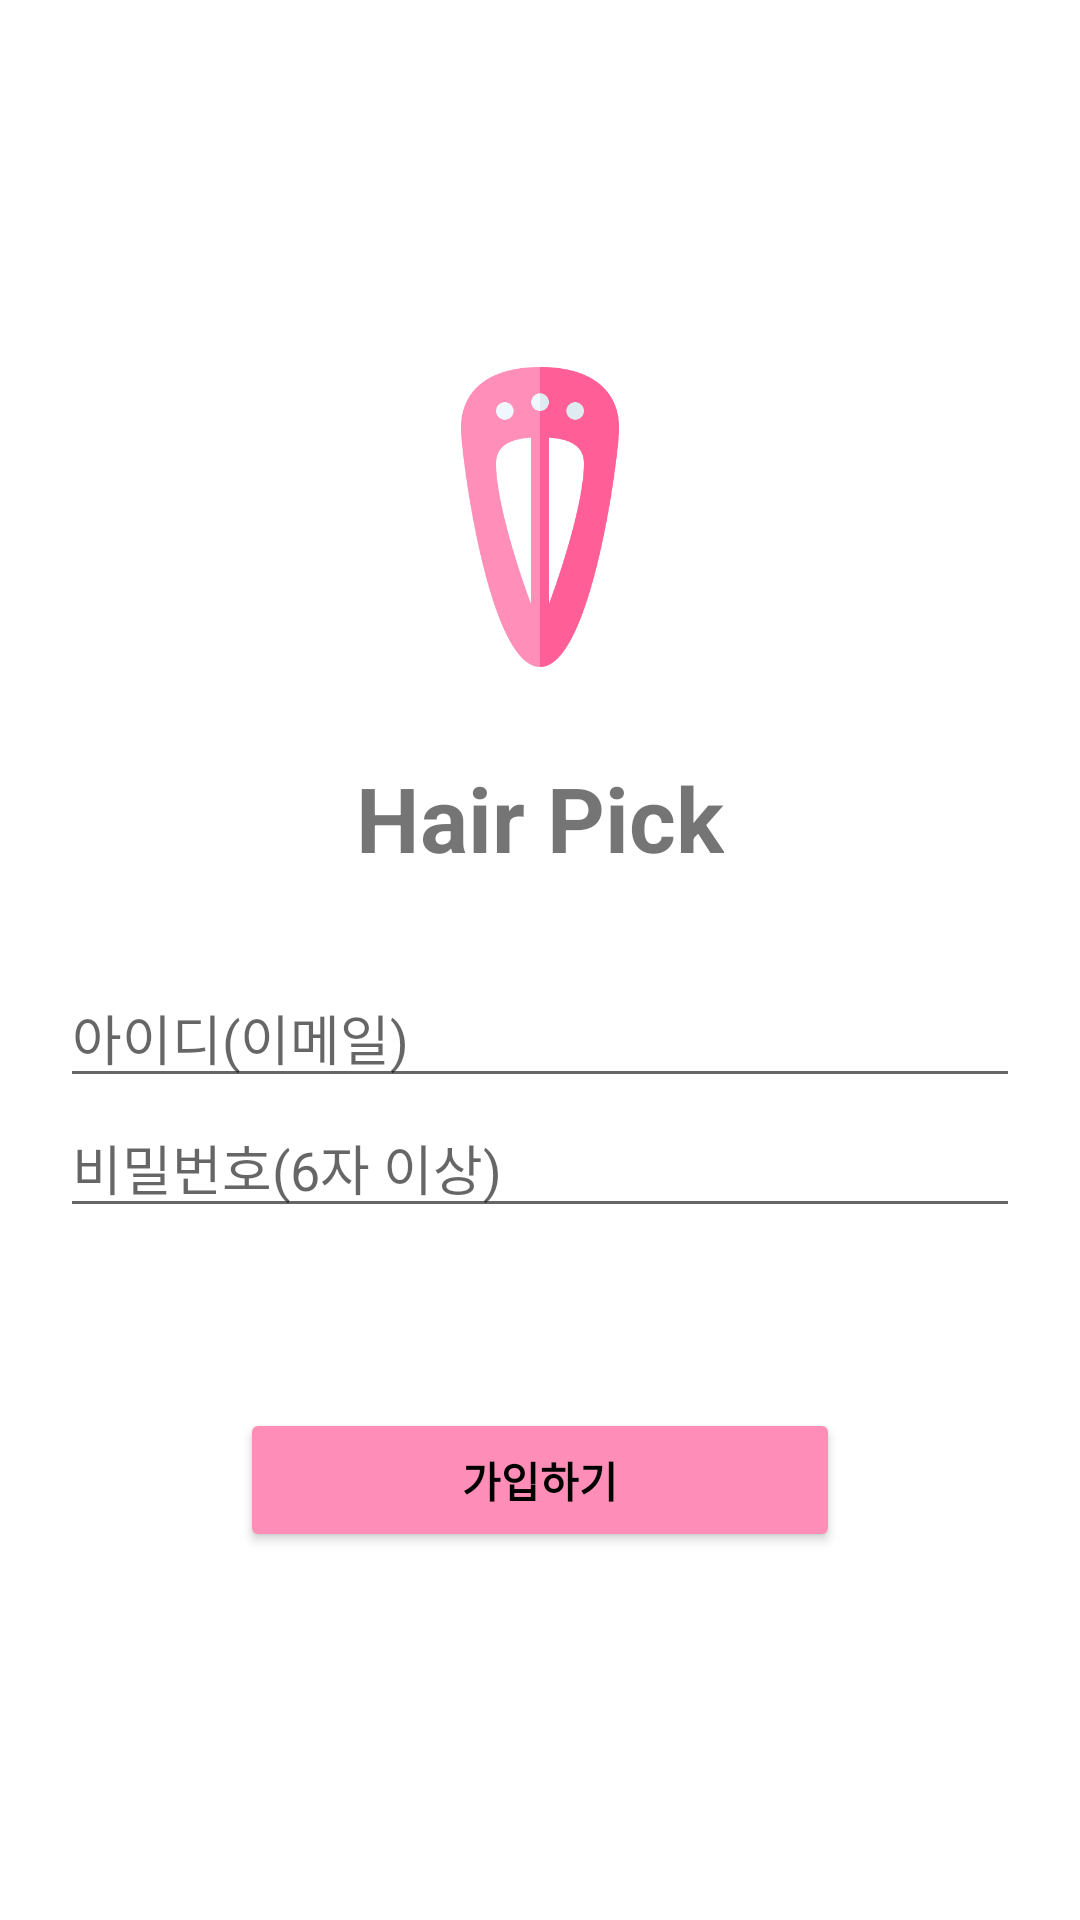

Screen size 1080 × 1920. Icon name, then its center in pixels as [x,y]:
hairclip: [540,517]
